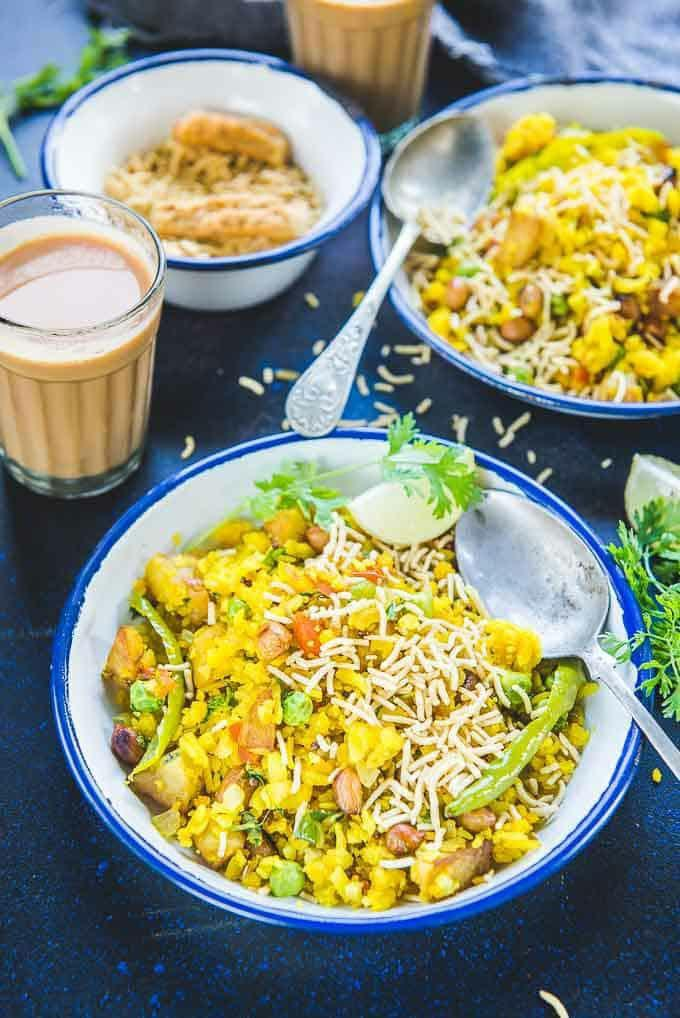Poha: (105, 496, 594, 909), (409, 106, 680, 403)
